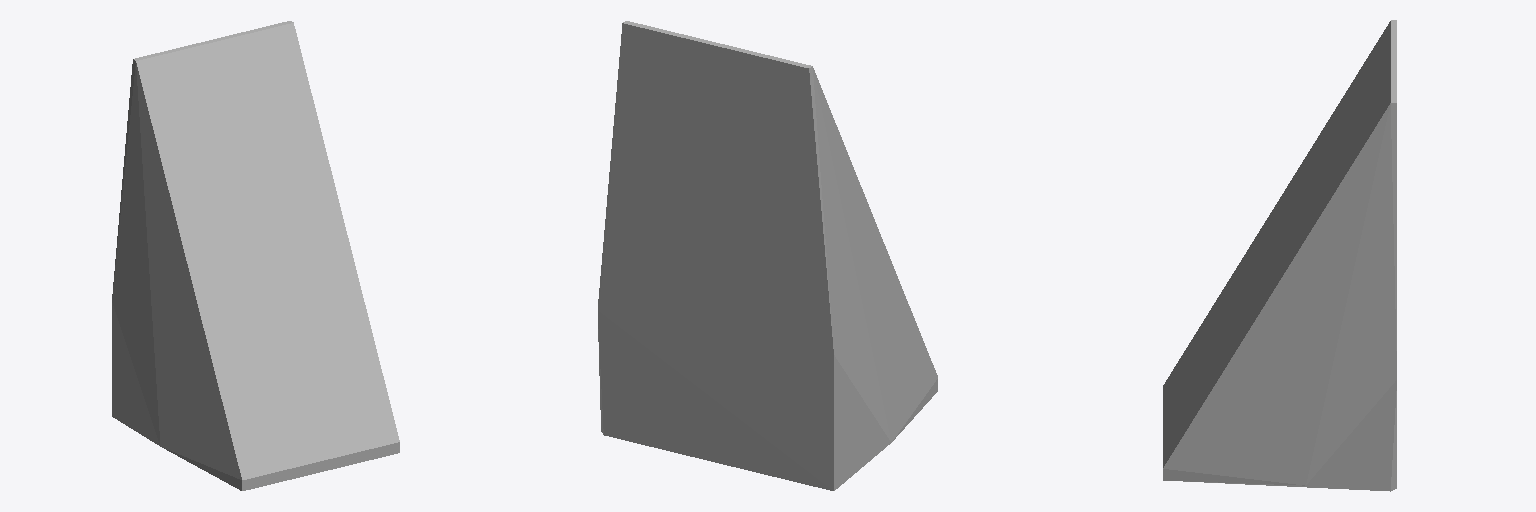
URDF robot description (root):
<?xml version='1.0' encoding='utf-8'?>
<robot name="root">
  <link name="link_001">
    <visual>
      <origin xyz="0 0 0" rpy="0 0 0" />
      <geometry>
        <mesh filename="682db7311e157bb5a74753945cff12b5f6fef44020098a7e283cf6d671c8c85f_scale_718.stl" scale="1.0000E+00 1.0000E+00 1.0000E+00" />
      </geometry>
      <material name="">
        <color rgba="7.50E-01 7.50E-01 7.50E-01 1" />
      </material>
    </visual>
    <collision>
      <origin xyz="0 0 0" rpy="0 0 0" />
      <geometry>
        <mesh filename="682db7311e157bb5a74753945cff12b5f6fef44020098a7e283cf6d671c8c85f_scale_718.stl" scale="1.0000E+00 1.0000E+00 1.0000E+00" />
      </geometry>
    </collision>
  </link>
</robot>

--- What the picture shows (computed from the rendered views, not written in the file) ---
The picture shows the robot from 3 angles, left to right: view 1: azimuth 30°, elevation 25°; view 2: azimuth 150°, elevation 25°; view 3: azimuth 270°, elevation 25°; orthographic projection.
Robot: root — 1 links, 0 joints (none); root link link_001; default pose: all joints at 0.
Visible links, largest first — view 1: link_001; view 2: link_001; view 3: link_001.
Boxes of the visible links, x1,y1,x2,y2 form: link_001: (112,21,399,490); link_001: (598,21,937,490); link_001: (1163,20,1396,491).
Bounding box of the posed robot: 0.0653 × 0.0619 × 0.11 m (x, y, z).
1 mesh visuals loaded from 1 distinct referenced files (1 binary STL).
